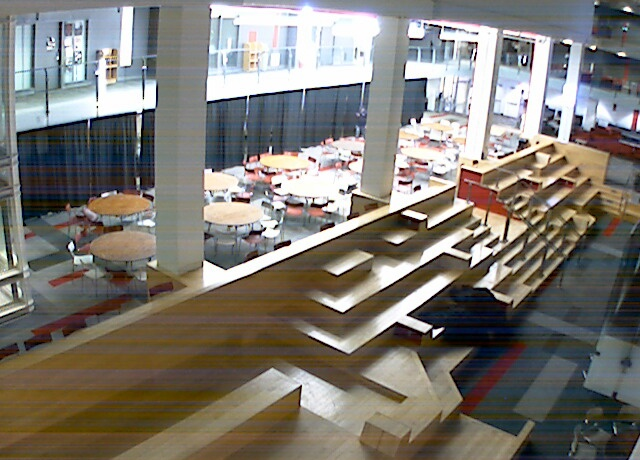head: (357, 103, 368, 114)
